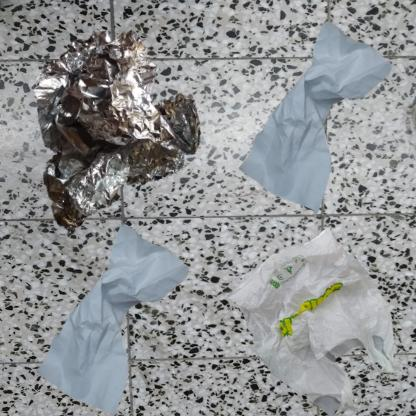aluminio: (10, 10, 230, 249)
bolsa: (213, 213, 416, 416)
papel: (213, 10, 416, 239), (10, 213, 222, 416)
